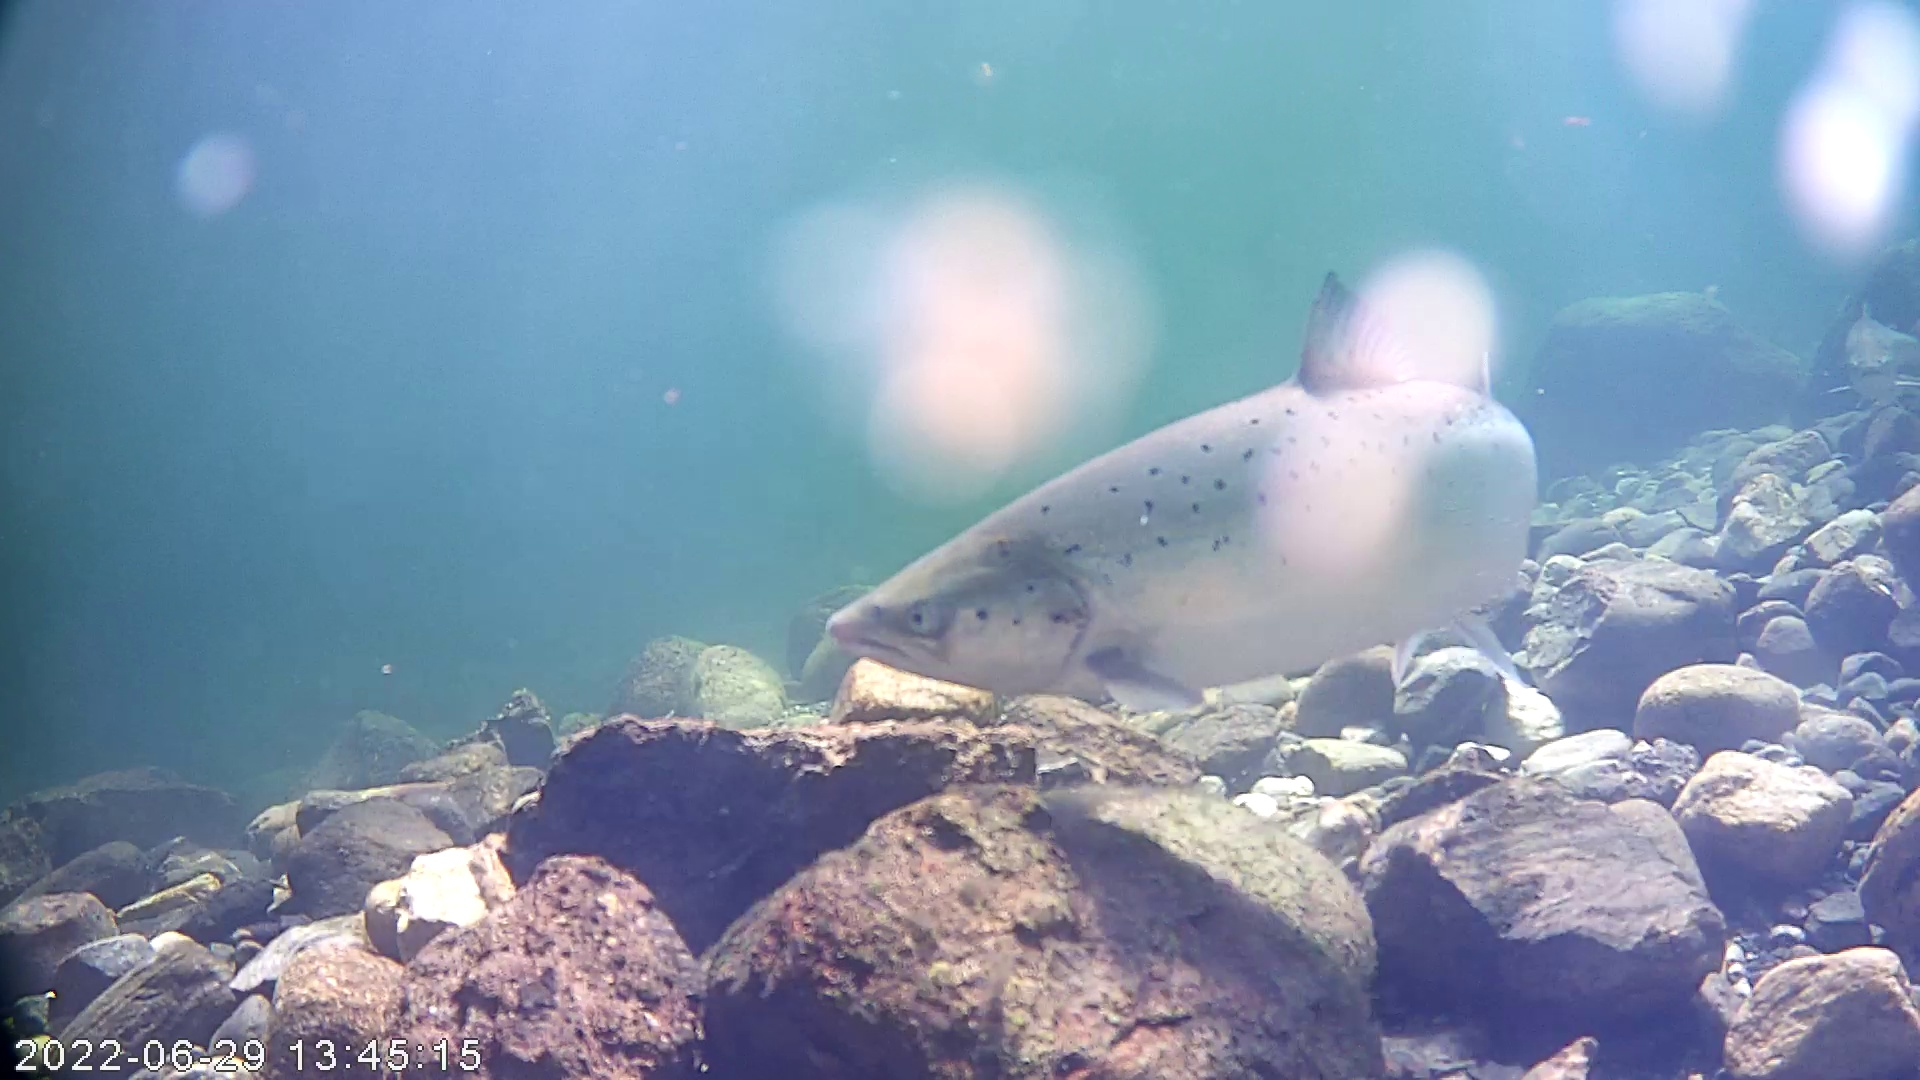salmon: (819, 286, 1548, 752)
